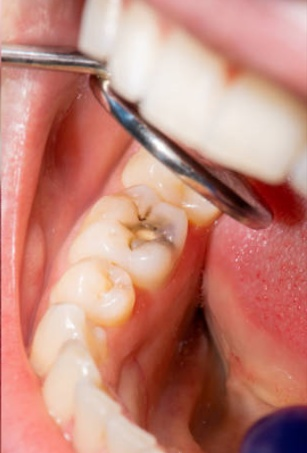Caries: (110, 202, 178, 256)
